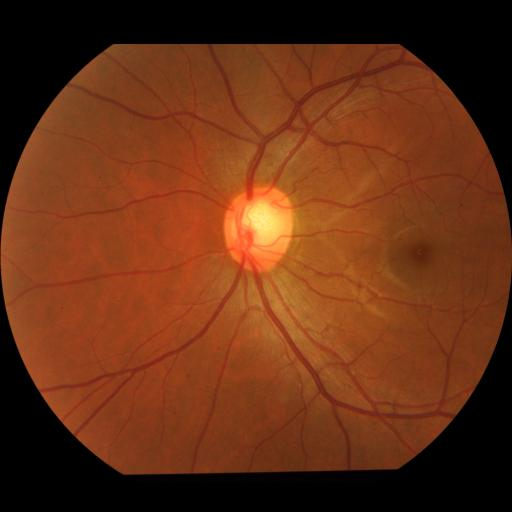Optic Cup: (242, 200, 279, 249)
Optic Disc: (223, 187, 293, 274)
